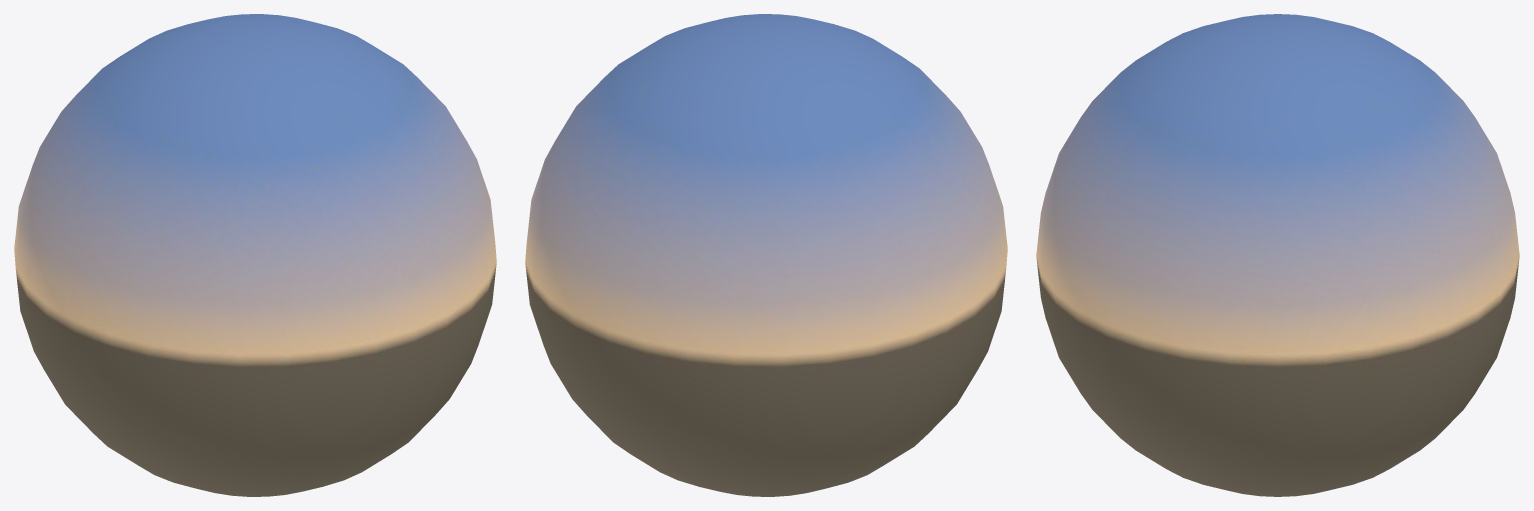
The model's file is room.gltf.
3 renders of one model, left to right at view 1: azimuth 30°, elevation 25°; view 2: azimuth 150°, elevation 25°; view 3: azimuth 270°, elevation 25°, orthographic.
Visible parts, largest first — view 1: SkyDome; view 2: SkyDome; view 3: SkyDome.
Part boxes in pixels (x1=…): SkyDome: x1=14, y1=14, x2=496, y2=496; SkyDome: x1=525, y1=14, x2=1007, y2=496; SkyDome: x1=1036, y1=14, x2=1519, y2=496.
Size of the model in its own units: 240 by 240 by 240.
Materials: 22 (22 with a texture image).
